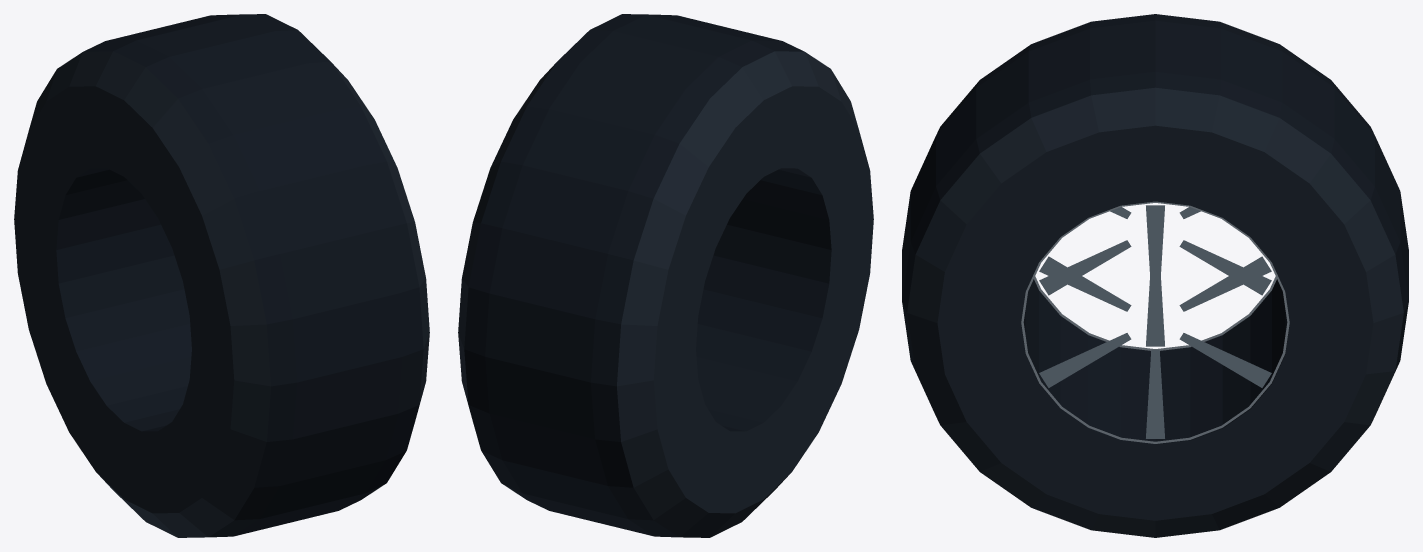
File: spare_wheel.glb
3 renders of one model, left to right at view 1: azimuth 30°, elevation 25°; view 2: azimuth 150°, elevation 25°; view 3: azimuth 270°, elevation 25°, orthographic.
Visible parts, largest first — view 1: Wheel; view 2: Wheel; view 3: Wheel.
Boxes of the visible parts, <box> form: Wheel: <box>14,14,429,537</box>; Wheel: <box>458,14,873,537</box>; Wheel: <box>902,14,1408,537</box>.
Size of the model in its own units: 0.3 by 0.68 by 0.68.
